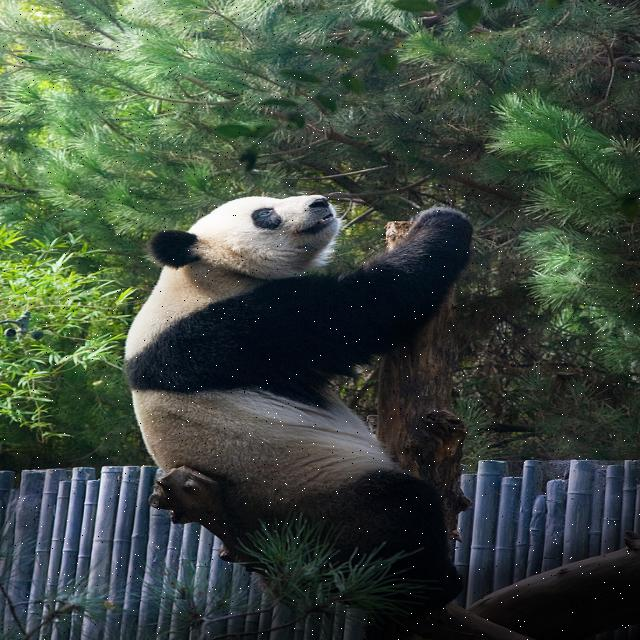panda: (131, 185, 485, 606)
